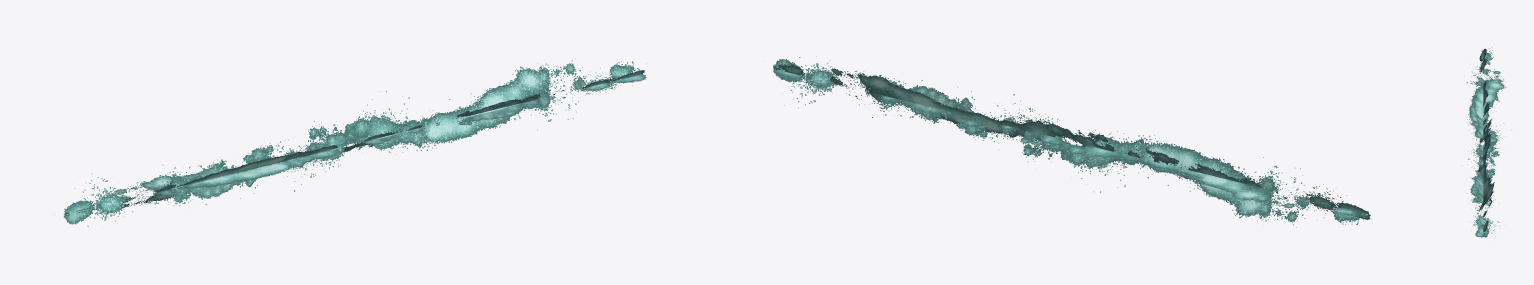
The picture shows the model from 3 angles, left to right: view 1: azimuth 30°, elevation 25°; view 2: azimuth 150°, elevation 25°; view 3: azimuth 270°, elevation 25°; orthographic projection. The views are drawn at different scales.
Visible parts, largest first — view 1: pPlane1; view 2: pPlane1; view 3: pPlane1.
Part boxes in pixels (x1,y1,x2,y2): pPlane1: (63,58,646,226); pPlane1: (773,56,1372,227); pPlane1: (1461,48,1511,237).
Bounding box in the file's own units: 15.57 × 2.02 × 2.34.
Materials: 1 (1 with a texture image).
